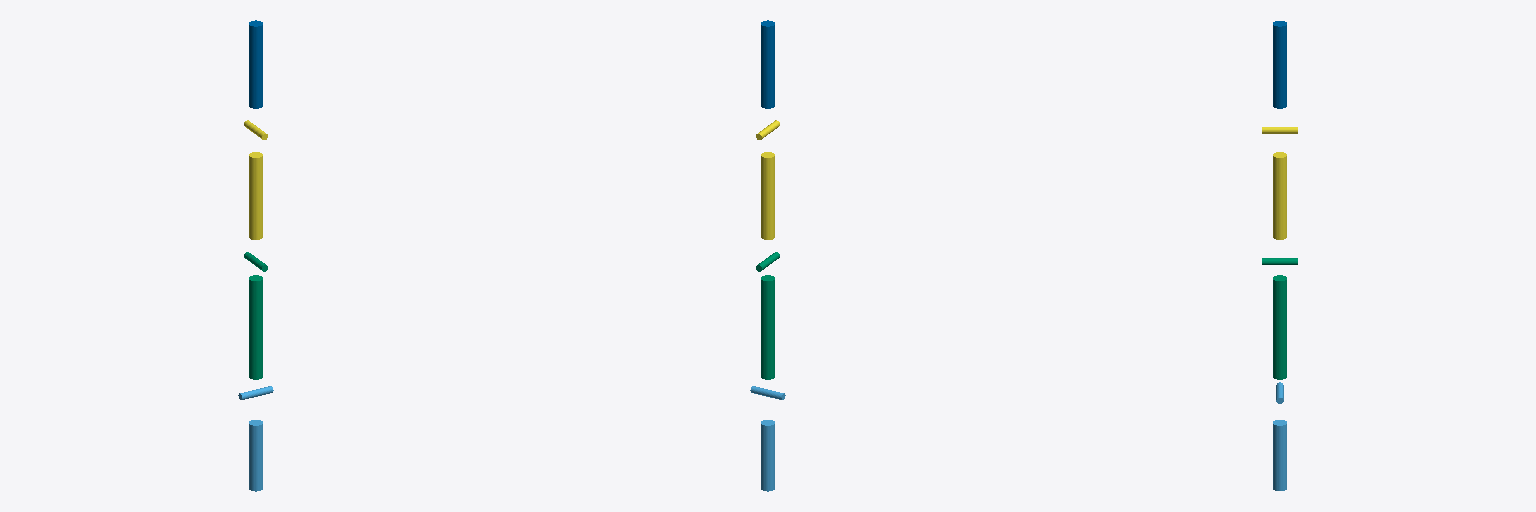
The robot description file, URDF, robot "2DrobotArm":
<robot name="2DrobotArm">
    <link name="world"/>

    <link name="link1">
        <visual>
            <origin rpy="0 0 0" xyz="0 0 0.11"/>
            <geometry>
                <cylinder length="0.2" radius="0.02"/>
            </geometry>
        </visual>
        <visual>
            <origin rpy="0 1.57079632679 0" xyz="0 0 0.3"/>
            <geometry>
                <cylinder length="0.1" radius="0.01"/>
            </geometry>
        </visual>
        <collision>
            <origin rpy="0 0 0" xyz="0 0 0.11"/>
            <geometry>
                <cylinder length="0.2" radius="0.02"/>
            </geometry>
        </collision>
    </link>

    <joint name="worldTolink1" type="fixed">
        <parent link="world"/>
        <child link="link1"/>
        <origin xyz="0 0 0"/>
    </joint>

    <link name="link2">
        <visual>
            <origin rpy="0 0 0" xyz="0 0 0.2"/>
            <geometry>
                <cylinder length="0.3" radius="0.02"/>
            </geometry>
        </visual>
        <visual>
            <origin rpy="1.57079632679 0 0" xyz="0 0 0.4"/>
            <geometry>
                <cylinder length="0.1" radius="0.01"/>
            </geometry>
        </visual>
        <collision>
            <origin rpy="0 0 0" xyz="0 0 0.2"/>
            <geometry>
                <cylinder length="0.3" radius="0.02"/>
            </geometry>
        </collision>
        <inertial>
            <origin rpy="0 0 0" xyz="0.0 0.0 0.2"/>
            <mass value="1"/>
            <inertia ixx="0.001" ixy="0" ixz="0" iyy="0.001" iyz="0" izz="0.001"/>
        </inertial>
    </link>

    <joint name="link1Tolink2" type="revolute">
        <parent link="link1"/>
        <child link="link2"/>
        <origin xyz="0 0 0.3"/>
        <axis xyz="1 0 0"/>
        <limit effort="80" lower="-6.28" upper="6.28" velocity="15"/>
    </joint>

    <link name="link3">
        <visual>
            <origin rpy="0 0 0" xyz="0 0 0.2"/>
            <geometry>
                <cylinder length="0.25" radius="0.02"/>
            </geometry>
        </visual>
        <visual>
            <origin rpy="1.57079632679 0 0" xyz="0 0 0.4"/>
            <geometry>
                <cylinder length="0.1" radius="0.01"/>
            </geometry>
        </visual>
        <collision>
            <origin rpy="0 0 0" xyz="0 0 0.2"/>
            <geometry>
                <cylinder length="0.25" radius="0.02"/>
            </geometry>
        </collision>
        <inertial>
            <origin rpy="0 0 0" xyz="0.0 0.0 0.2"/>
            <mass value="1"/>
            <inertia ixx="0.001" ixy="0" ixz="0" iyy="0.001" iyz="0" izz="0.001"/>
        </inertial>
    </link>

    <joint name="link2Tolink3" type="revolute">
        <parent link="link2"/>
        <child link="link3"/>
        <origin xyz="0 0 0.4"/>
        <axis xyz="0 1 0"/>
        <limit effort="80" lower="-6.28" upper="6.28" velocity="15"/>
    </joint>

    <link name="link4">
        <visual>
            <origin rpy="0 0 0" xyz="0 0 0.2"/>
            <geometry>
                <cylinder length="0.25" radius="0.02"/>
            </geometry>
        </visual>
        <collision>
            <origin rpy="0 0 0" xyz="0 0 0.2"/>
            <geometry>
                <cylinder length="0.25" radius="0.02"/>
            </geometry>
        </collision>
        <inertial>
            <origin rpy="0 0 0" xyz="0.0 0.0 0.2"/>
            <mass value="1"/>
            <inertia ixx="0.001" ixy="0" ixz="0" iyy="0.001" iyz="0" izz="0.001"/>
        </inertial>
    </link>

    <joint name="link3Tolink4" type="revolute">
        <parent link="link3"/>
        <child link="link4"/>
        <origin xyz="0 0 0.4"/>
        <axis xyz="0 1 0"/>
        <limit effort="80" lower="-6.28" upper="6.28" velocity="15"/>
    </joint>
</robot>

--- What the picture shows (computed from the rendered views, not written in the file) ---
Views: 3 orthographic renders of the robot side by side, from view 1: azimuth 30°, elevation 25°; view 2: azimuth 150°, elevation 25°; view 3: azimuth 270°, elevation 25°.
Robot: 2DrobotArm — 5 links, 4 joints (3 revolute, 1 fixed); root link world; default pose: all joints at 0.
Visible links, largest first — view 1: link2, link3, link1, link4; view 2: link2, link3, link1, link4; view 3: link2, link3, link4, link1.
Link boxes in pixels (left/top/right/bottom): link2: left=244, top=252, right=267, bottom=379; link3: left=244, top=120, right=267, bottom=239; link1: left=238, top=386, right=273, bottom=491; link4: left=249, top=20, right=262, bottom=108; link2: left=756, top=252, right=779, bottom=379; link3: left=756, top=120, right=779, bottom=239; link1: left=750, top=386, right=785, bottom=491; link4: left=761, top=20, right=774, bottom=108; link2: left=1262, top=258, right=1297, bottom=379; link3: left=1262, top=127, right=1297, bottom=239; link4: left=1273, top=21, right=1286, bottom=108; link1: left=1273, top=382, right=1286, bottom=490.
Size in the robot's own frame: 0.1 by 0.1 by 1.42 metres.
Geometry: primitives only (box / cylinder / sphere), no mesh files.
